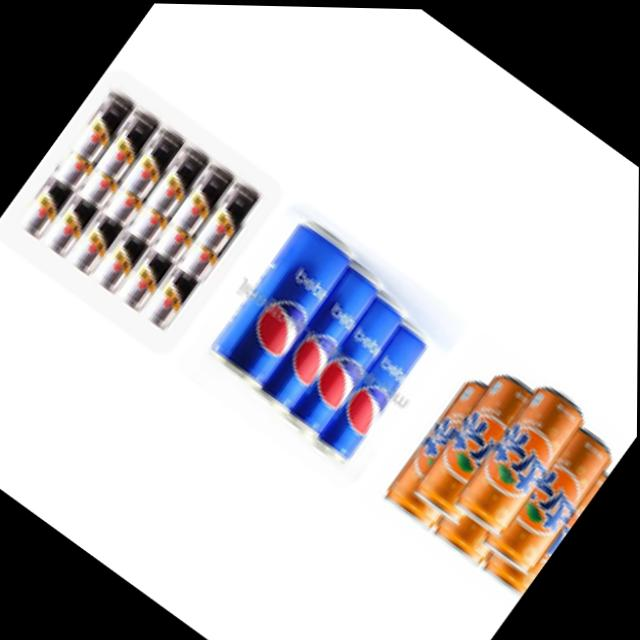aluminum_soda_cans: (202, 215, 356, 395), (455, 383, 586, 540), (256, 265, 384, 424), (314, 310, 437, 463), (288, 296, 404, 445), (420, 374, 532, 515), (500, 427, 612, 567)
